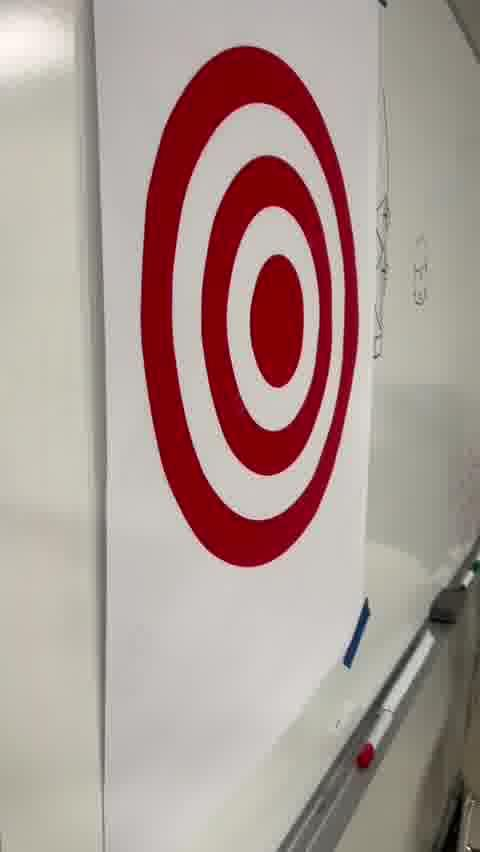target_red: (144, 42, 359, 566)
